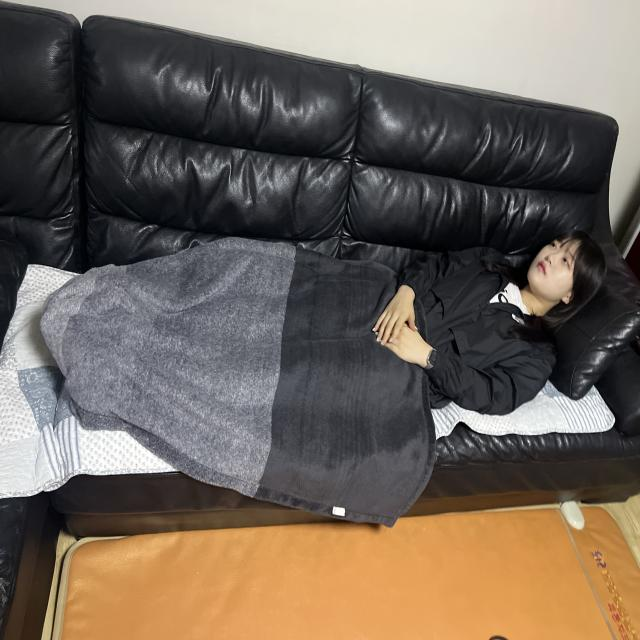people: (50, 195, 611, 496)
